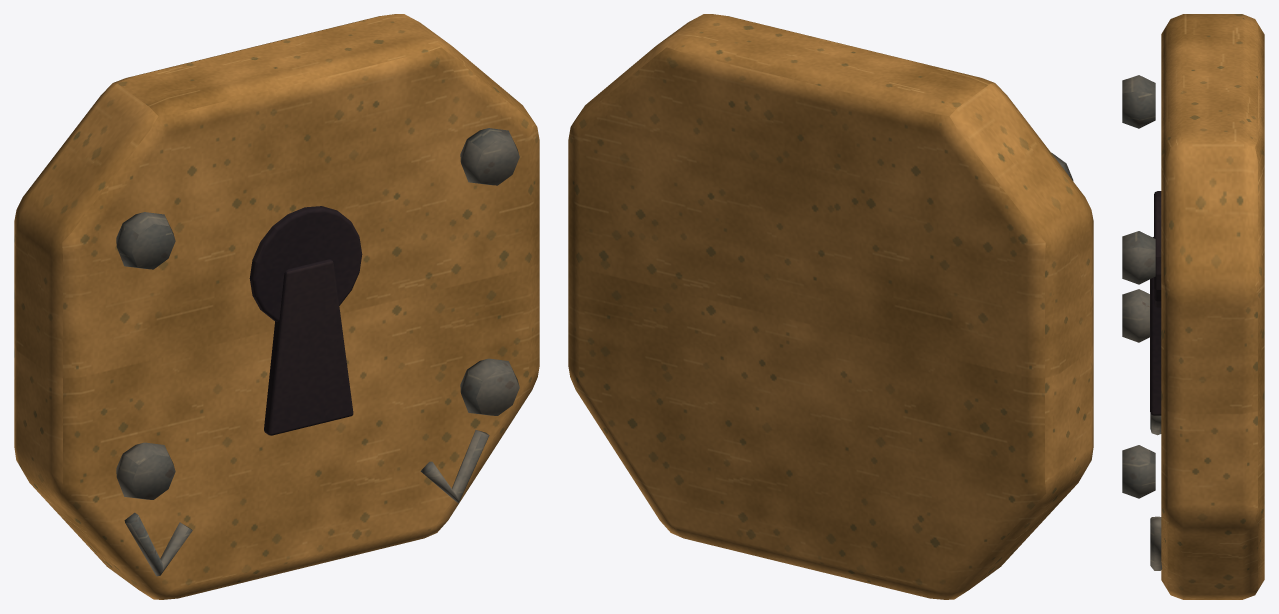
Rendered from coffer_keyhole.glb.
3 renders of one model, left to right at view 1: azimuth 30°, elevation 25°; view 2: azimuth 150°, elevation 25°; view 3: azimuth 270°, elevation 25°, orthographic. The views are drawn at different scales.
Visible parts, largest first — view 1: TexturedSurface.002; view 2: TexturedSurface.002; view 3: TexturedSurface.002.
Part boxes in pixels (left/top/right/bottom): TexturedSurface.002: left=14, top=14, right=539, bottom=599; TexturedSurface.002: left=568, top=14, right=1093, bottom=599; TexturedSurface.002: left=1122, top=14, right=1264, bottom=599.
Bounding box in the file's own units: 0.142 × 0.139 × 0.0385.
Materials: 3 (3 with a texture image).
